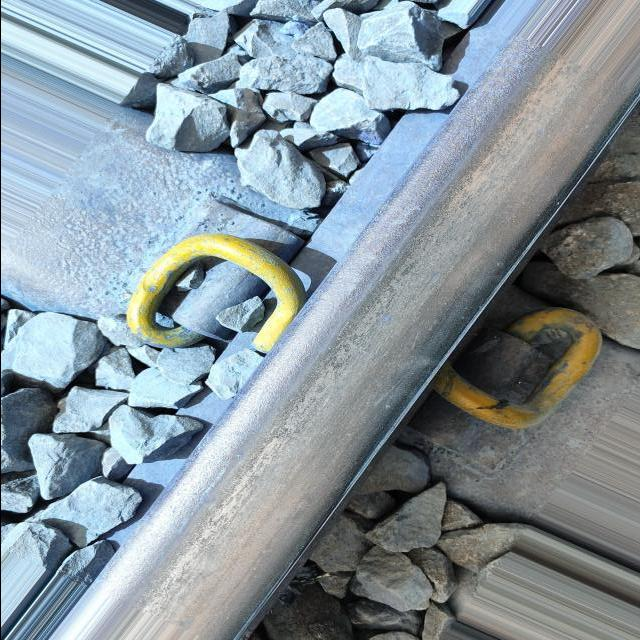squats_high: (175, 465, 231, 533), (380, 312, 395, 322), (231, 450, 245, 458)
